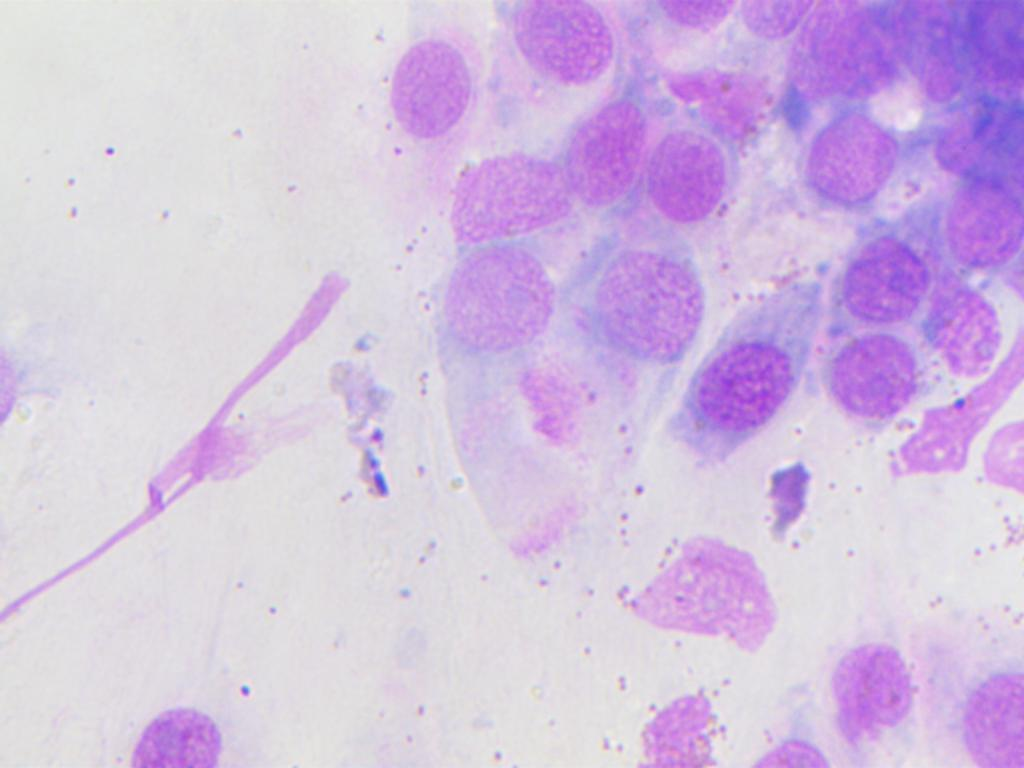artifact: (616, 526, 788, 652), (308, 326, 401, 509), (760, 454, 821, 539)
ciliated: (409, 243, 600, 565)
eosinophil: (619, 674, 744, 768)
epithelial: (587, 241, 708, 362), (793, 112, 917, 225), (377, 15, 483, 145), (692, 326, 803, 443), (778, 0, 894, 111), (811, 641, 924, 748), (434, 155, 571, 241), (507, 0, 622, 98), (825, 224, 934, 324), (645, 124, 739, 238), (913, 261, 1006, 374), (824, 325, 919, 430), (562, 97, 646, 212), (116, 689, 238, 768), (932, 167, 1024, 266), (959, 657, 1024, 768), (980, 394, 1024, 507), (722, 0, 826, 44), (648, 0, 741, 32)
